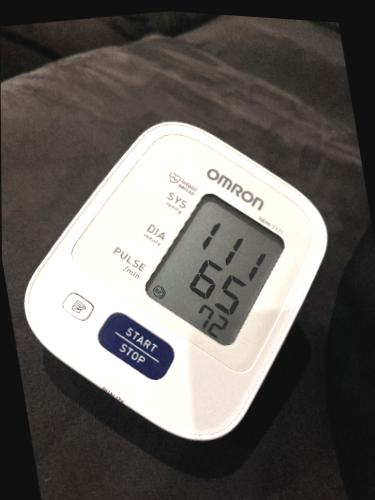bpm: (137, 188, 298, 353)
